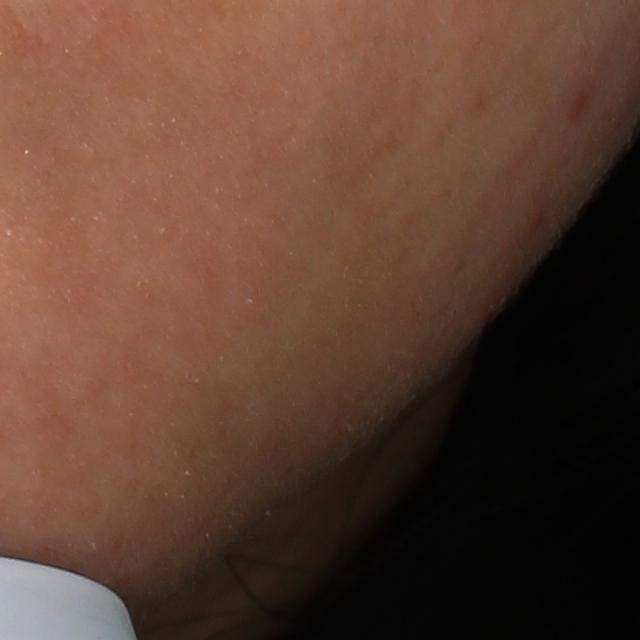papule: (563, 76, 601, 116)
